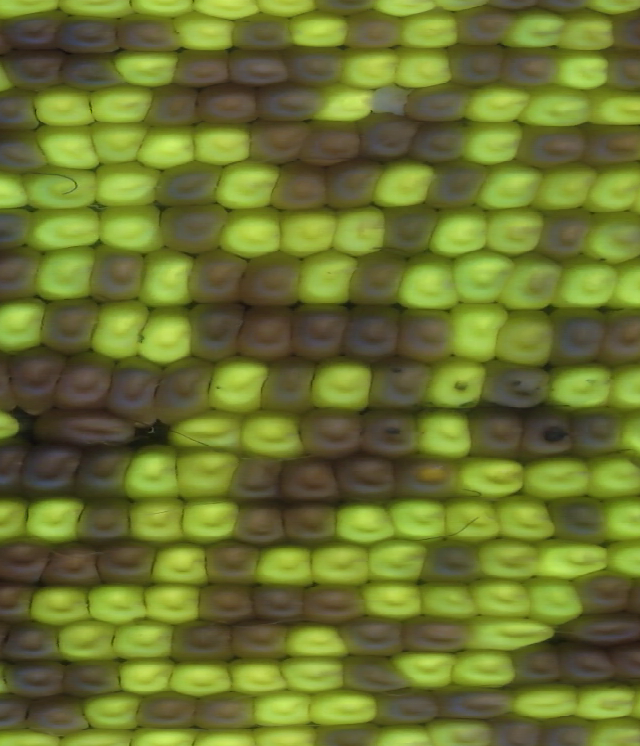fluorescent: (305, 347, 383, 419), (496, 245, 572, 311), (541, 358, 623, 419), (167, 442, 246, 505), (199, 350, 275, 415), (513, 569, 591, 632), (466, 609, 562, 660), (450, 244, 523, 311), (553, 249, 624, 317), (131, 302, 201, 370), (392, 249, 463, 316), (292, 245, 366, 308), (298, 535, 381, 590), (490, 485, 561, 549), (230, 408, 311, 464), (117, 439, 188, 502), (418, 354, 495, 412), (241, 540, 325, 593), (31, 118, 109, 175), (216, 202, 290, 261), (30, 243, 104, 302), (135, 244, 201, 310), (84, 295, 146, 365), (412, 405, 485, 464), (25, 202, 106, 255), (491, 306, 560, 368), (269, 649, 354, 699), (518, 79, 598, 132), (18, 164, 104, 213), (326, 495, 404, 549), (453, 455, 534, 507), (515, 455, 597, 506), (94, 202, 170, 257), (435, 489, 507, 547), (93, 156, 167, 212), (371, 154, 441, 213), (474, 159, 549, 214), (210, 156, 285, 211), (221, 650, 300, 702), (108, 614, 186, 666), (51, 615, 126, 669), (528, 159, 602, 213), (385, 645, 463, 696), (357, 575, 432, 628), (450, 299, 511, 364), (26, 578, 98, 633), (163, 407, 248, 453), (576, 207, 640, 268), (84, 115, 156, 169), (480, 204, 549, 260), (132, 120, 204, 173), (476, 533, 549, 585), (185, 116, 255, 170), (303, 684, 387, 729), (174, 492, 245, 545), (465, 572, 540, 622), (274, 207, 346, 259), (414, 574, 487, 625), (426, 205, 492, 261), (386, 491, 452, 547), (365, 530, 436, 582), (496, 4, 571, 53), (456, 118, 528, 169), (281, 617, 357, 665), (113, 653, 187, 702), (122, 495, 193, 546), (463, 79, 536, 128), (509, 679, 588, 724), (579, 158, 640, 216), (551, 41, 612, 99), (28, 81, 100, 130), (135, 581, 210, 628), (108, 45, 187, 89), (538, 535, 617, 579), (84, 578, 152, 629), (84, 81, 161, 126), (0, 294, 53, 359), (553, 3, 618, 56), (446, 645, 519, 692), (22, 493, 87, 545), (165, 656, 239, 701), (151, 539, 215, 591), (328, 206, 393, 257), (247, 684, 317, 731), (82, 688, 151, 734), (570, 678, 640, 723), (389, 42, 456, 89), (315, 81, 384, 126), (583, 447, 640, 499), (336, 43, 400, 89), (582, 81, 640, 131), (394, 9, 462, 51), (286, 9, 354, 49), (419, 711, 496, 746), (599, 254, 640, 319), (0, 489, 39, 546), (599, 491, 640, 541), (598, 533, 640, 581), (608, 355, 640, 416), (53, 1, 142, 22), (190, 1, 265, 25), (586, 713, 640, 746), (0, 164, 36, 213), (372, 720, 437, 746), (0, 398, 30, 450), (250, 1, 324, 22), (0, 1, 65, 24), (123, 1, 202, 19)
nonfluorescent: (145, 353, 218, 430), (0, 339, 69, 420), (26, 404, 147, 449), (342, 240, 415, 311), (13, 434, 92, 499), (48, 346, 121, 414), (185, 293, 251, 368), (102, 354, 165, 431), (365, 353, 441, 415), (68, 438, 136, 507), (232, 299, 302, 366), (391, 446, 470, 505), (319, 151, 388, 218), (36, 293, 105, 360), (284, 299, 350, 369), (255, 353, 325, 419), (180, 246, 253, 309), (294, 401, 367, 463), (480, 356, 558, 414), (238, 248, 306, 314), (508, 122, 591, 176), (544, 303, 610, 369), (156, 201, 231, 259), (337, 299, 402, 365), (463, 402, 532, 464), (332, 448, 403, 507), (83, 239, 145, 306), (152, 156, 227, 211), (86, 534, 162, 588), (377, 199, 445, 259), (274, 451, 345, 508), (355, 405, 424, 463), (394, 302, 456, 366), (425, 155, 491, 215), (34, 537, 105, 592), (516, 405, 581, 465), (265, 155, 331, 214), (333, 609, 409, 660), (392, 612, 478, 657), (163, 617, 243, 665), (354, 110, 422, 166), (565, 401, 630, 459), (418, 534, 487, 588), (55, 48, 134, 95), (244, 116, 315, 168), (340, 649, 415, 698), (220, 453, 288, 507), (299, 578, 371, 629), (432, 683, 523, 723), (296, 119, 367, 170), (569, 566, 640, 617), (226, 498, 294, 551), (21, 692, 96, 740), (535, 204, 593, 266), (190, 81, 266, 128), (555, 607, 640, 649), (166, 44, 240, 92), (0, 5, 72, 54), (400, 117, 472, 166), (447, 3, 522, 50), (0, 45, 69, 96), (201, 536, 267, 589), (252, 79, 332, 122), (398, 80, 476, 124), (545, 491, 611, 543), (138, 81, 208, 130), (224, 614, 294, 663), (369, 684, 445, 729), (190, 687, 264, 733), (224, 44, 296, 91), (225, 9, 300, 54), (282, 40, 348, 91), (115, 9, 185, 57), (0, 533, 60, 589), (58, 656, 131, 702), (554, 639, 621, 689), (337, 7, 408, 54), (55, 13, 127, 59), (191, 578, 260, 626), (75, 492, 138, 544), (0, 617, 65, 667), (0, 654, 73, 698), (281, 500, 343, 551), (498, 43, 565, 89), (248, 579, 312, 627), (130, 689, 202, 731), (576, 119, 640, 166), (0, 241, 45, 307), (595, 304, 640, 370), (506, 639, 565, 689), (448, 44, 511, 90), (0, 124, 51, 177), (0, 431, 36, 502), (536, 710, 600, 746), (484, 710, 547, 746), (0, 84, 45, 130), (603, 45, 640, 99), (0, 202, 34, 259), (0, 578, 37, 628), (606, 6, 640, 58), (307, 720, 375, 746), (0, 687, 35, 736), (609, 639, 640, 686)
